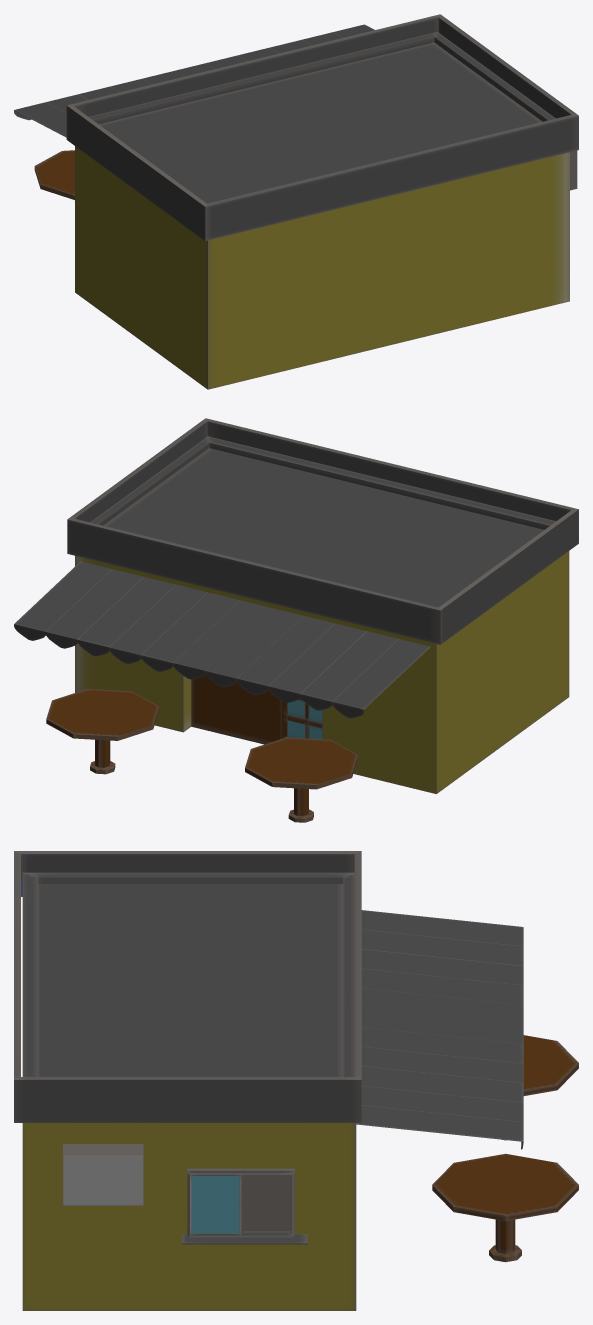
File: café_Texturizado.fbx
The picture shows the model from 3 angles, top to bottom: view 1: azimuth 30°, elevation 25°; view 2: azimuth 150°, elevation 25°; view 3: azimuth 270°, elevation 25°; orthographic projection. The views are drawn at different scales.
Visible parts, largest first — view 1: Plane.003; view 2: Plane.003; view 3: Plane.003.
Part boxes in pixels (left/top/right/bottom): Plane.003: left=14, top=14, right=578, bottom=389; Plane.003: left=14, top=418, right=578, bottom=822; Plane.003: left=14, top=851, right=578, bottom=1310.
Size of the model in its own units: 617 by 282 by 614.
Materials: 1 (1 with a texture image).
